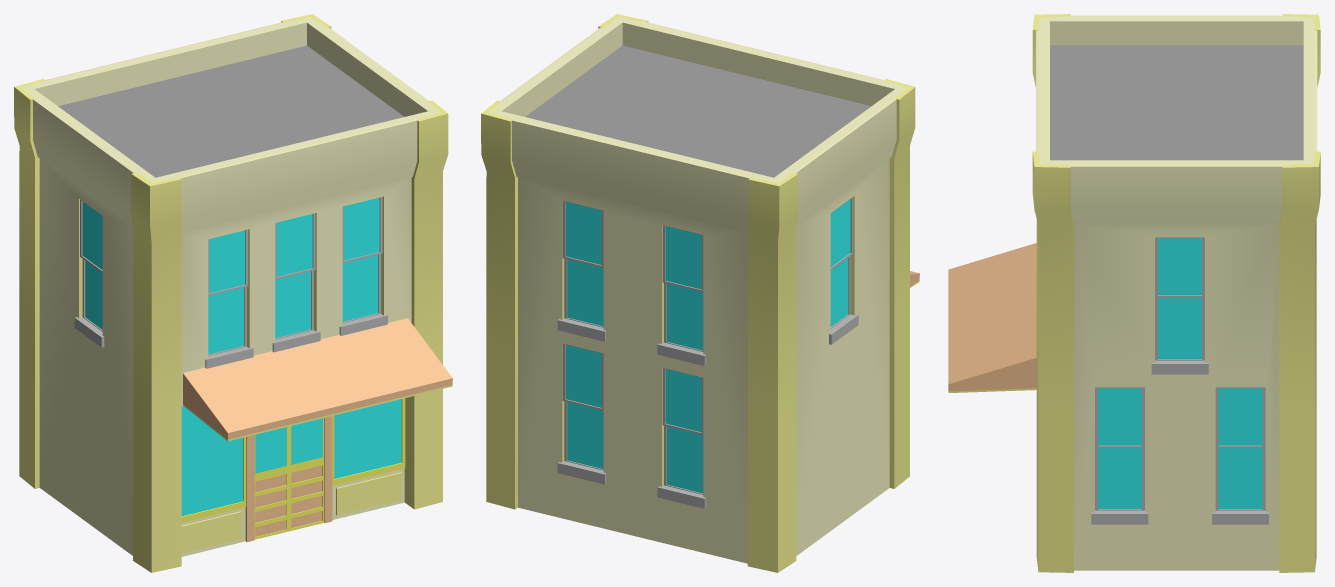
File: SM_House_01_03.FBX
The picture shows the model from 3 angles, left to right: view 1: azimuth 30°, elevation 25°; view 2: azimuth 150°, elevation 25°; view 3: azimuth 270°, elevation 25°; orthographic projection. The views are drawn at different scales.
Parts seen in each view (by area): view 1: SM_House_01_03; view 2: SM_House_01_03; view 3: SM_House_01_03.
Part boxes in pixels (left/top/right/bottom): SM_House_01_03: left=14, top=14, right=452, bottom=572; SM_House_01_03: left=481, top=14, right=919, bottom=572; SM_House_01_03: left=948, top=14, right=1320, bottom=572.
Size of the model in its own units: 5.42 by 6.69 by 5.55.
1 material, 1 textured.
